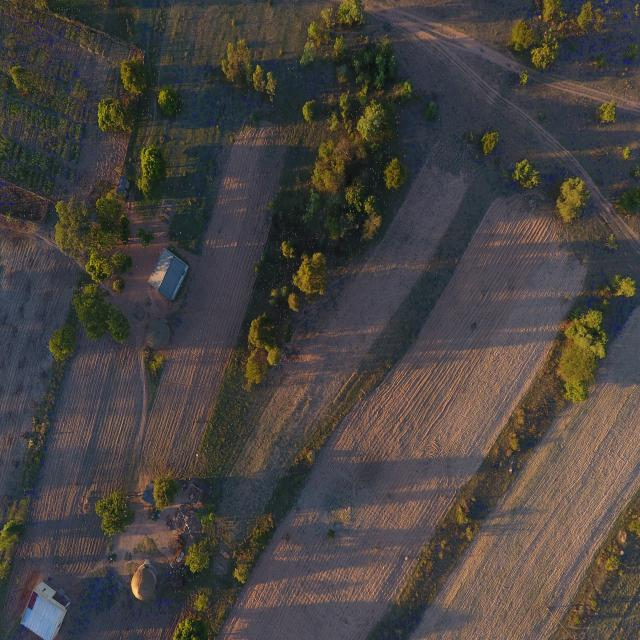boundaries: (221, 194, 496, 622), (373, 290, 635, 625), (5, 347, 83, 548)
